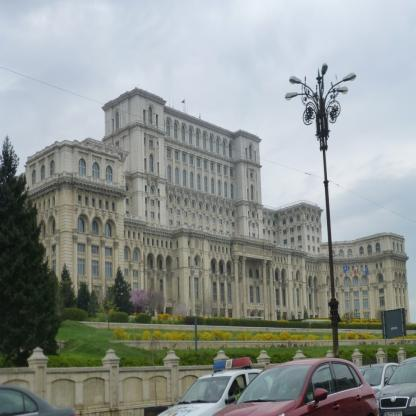Car: (236, 363, 375, 415), (155, 361, 285, 416), (1, 384, 80, 416), (376, 355, 416, 416), (357, 363, 400, 408)
